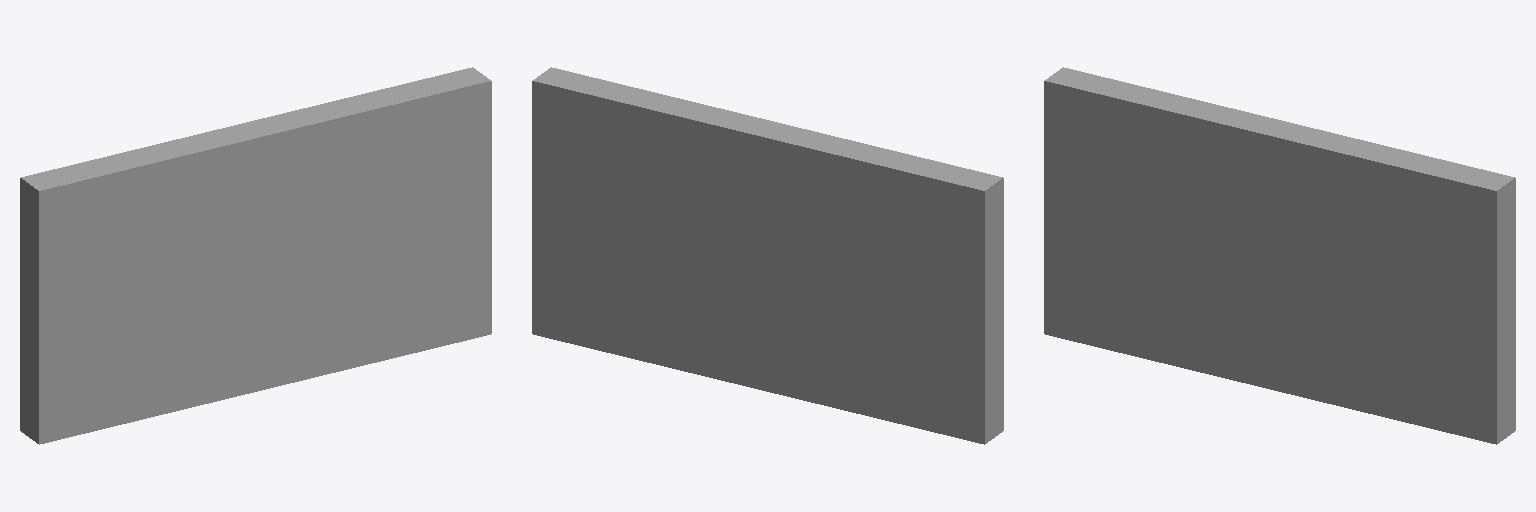
The robot description file, URDF, robot "narrow_tunnel":
<robot name="narrow_tunnel">
  <link name="narrow_tunnel_base_link">
    <visual>
      <origin rpy="0 0 3.14159" xyz="0 0 0"/>
      <geometry>
        <mesh filename="../meshes/wall3.obj"  scale="0.0008 0.0008 0.0008"/>
      </geometry>
      <material name="tray_material">
        <color rgba="0.7 0.7 0.7 1"/>
      </material>
    </visual>
    <collision>
      <origin rpy="0 0 3.14159" xyz="0 0 0"/>
      <geometry>
        <mesh filename="../meshes/wall3.obj" scale="0.0008 0.0008 0.0008"/>
      </geometry>
    </collision>
  </link>
</robot>

--- Render facts (derived) ---
3 views of the same robot in one strip: view 1: azimuth 30°, elevation 25°; view 2: azimuth 150°, elevation 25°; view 3: azimuth 330°, elevation 25° (orthographic).
Robot: narrow_tunnel — 1 links, 0 joints (none); root link narrow_tunnel_base_link; default pose: every joint at zero.
Visible links, largest first — view 1: narrow_tunnel_base_link; view 2: narrow_tunnel_base_link; view 3: narrow_tunnel_base_link.
Boxes of the visible links, box(x1,y1,x2,y2) form: narrow_tunnel_base_link: box(20, 67, 491, 444); narrow_tunnel_base_link: box(532, 67, 1003, 444); narrow_tunnel_base_link: box(1044, 67, 1515, 444).
Size in the robot's own frame: 1.12 by 0.08 by 0.6 metres.
Meshes: 1 distinct files referenced, 1 mesh visuals loaded (1 OBJ).